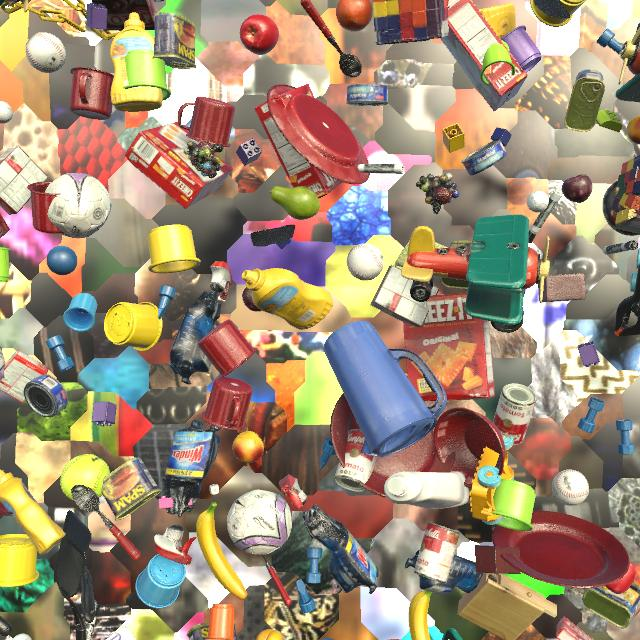ycb_003_cracker_box: (254, 84, 342, 199), (403, 292, 495, 401), (440, 0, 528, 111), (125, 122, 233, 209)
ycb_004_sugar_box: (106, 626, 136, 640)
ycb_005_tomato_soup_can: (414, 522, 461, 584), (493, 383, 537, 445), (334, 429, 377, 492)
ycb_006_mustard_bottle: (242, 268, 333, 330), (0, 469, 65, 555), (110, 12, 163, 112), (479, 3, 516, 104)
ycb_007_tuna_fish_can: (24, 374, 68, 418), (462, 139, 507, 176), (346, 84, 388, 106)
ycb_008_pudding_box: (370, 265, 440, 328), (0, 146, 49, 215), (91, 0, 156, 31)
ycb_009_gelatin_box: (0, 349, 49, 403), (556, 616, 593, 640), (0, 213, 10, 238)
ycb_010_potted_meat_can: (101, 457, 162, 521), (582, 582, 640, 628), (152, 12, 197, 69), (564, 70, 605, 132), (439, 240, 472, 289), (187, 621, 238, 640)
ycb_011_banana: (196, 502, 247, 600), (409, 590, 433, 640)
ycb_013_apple: (240, 14, 279, 55), (605, 561, 636, 594)
ycb_015_peach: (233, 431, 264, 463), (627, 115, 640, 145), (255, 629, 284, 640)
ycb_016_pear: (270, 186, 320, 220)
ycb_017_orange: (336, 0, 373, 32)
ycb_018_plum: (562, 174, 592, 203), (242, 287, 262, 312)
